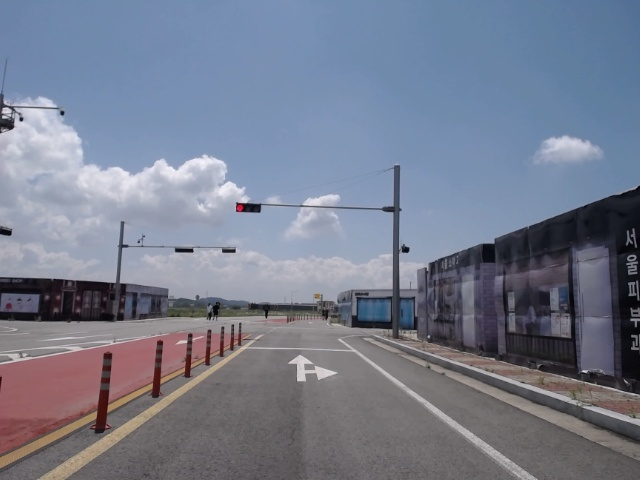red_3: (235, 201, 262, 214)
